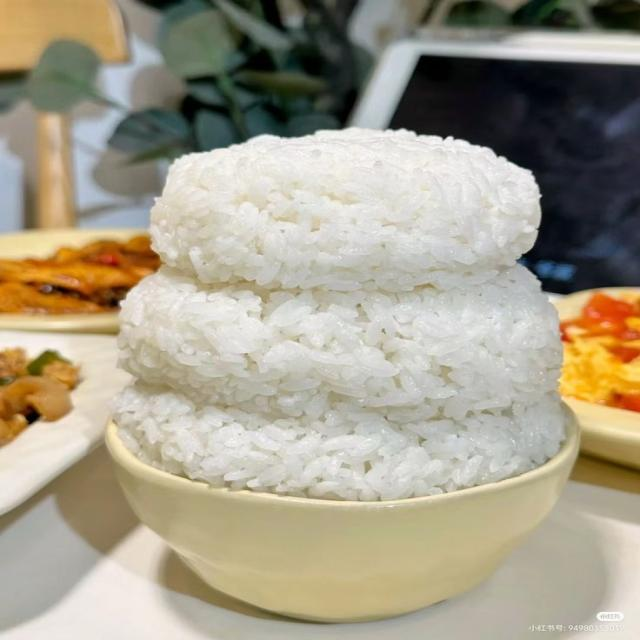rice: (115, 130, 564, 500), (152, 130, 539, 291)
